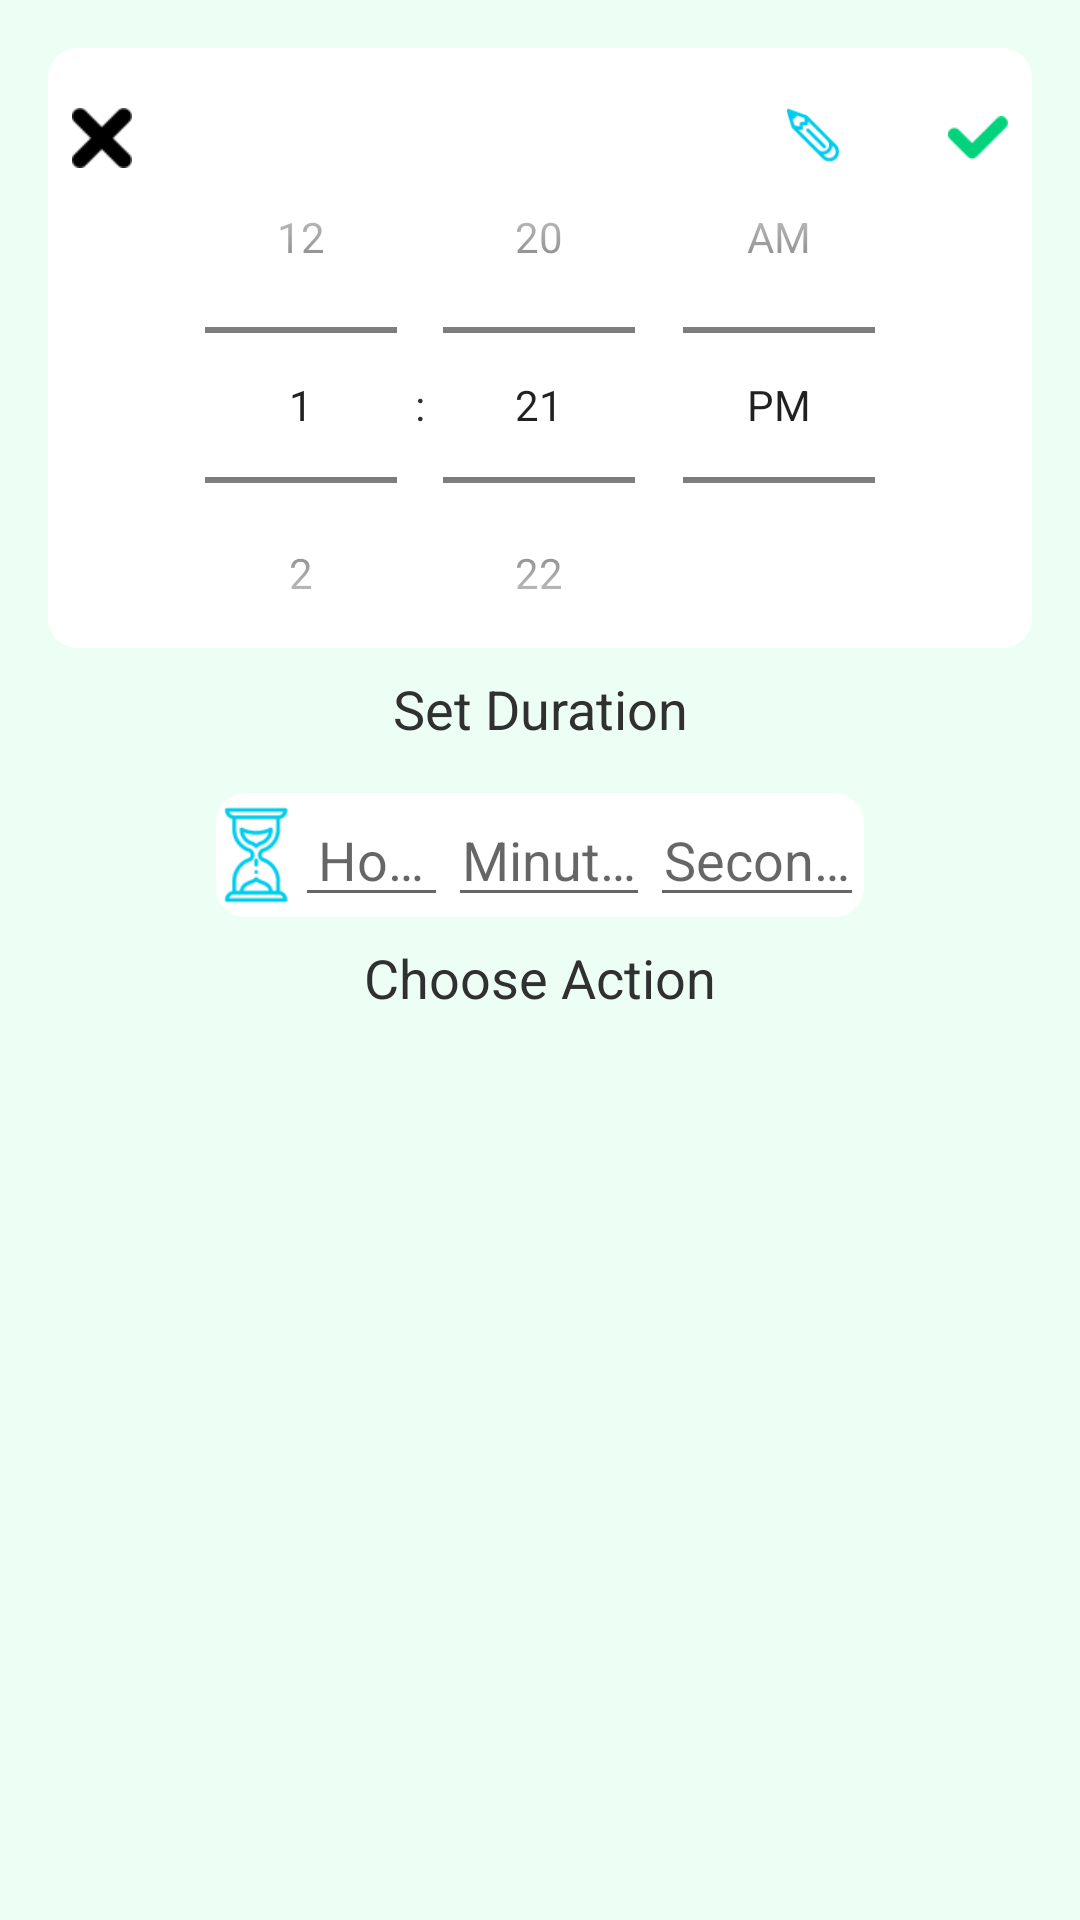

Screen size 1080w x 1920h. Icon name, then its center in pixels as (x,y):
images close: (102,138)
images done: (978,138)
images edit pen: (813,135)
images time: (256,855)
